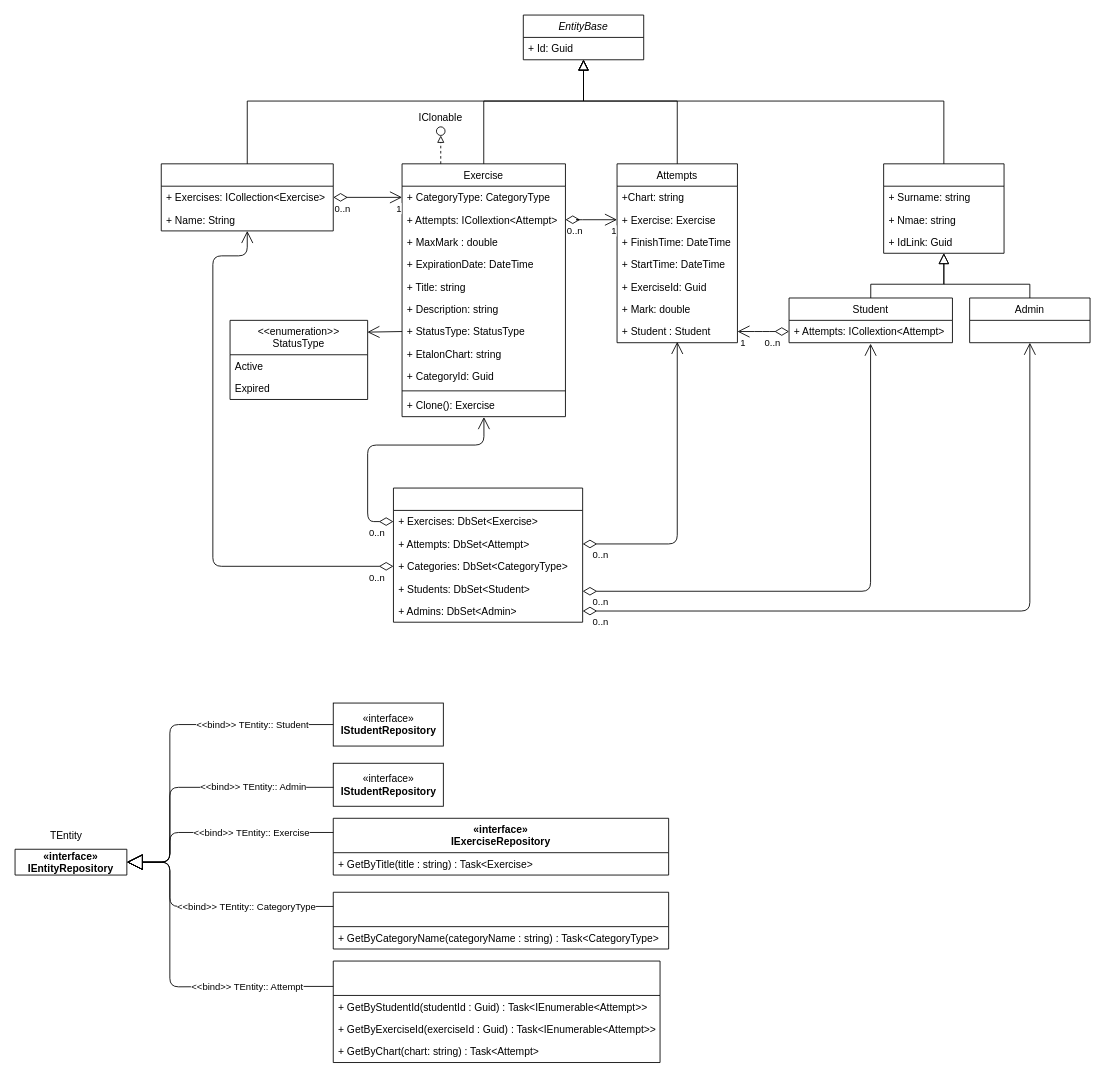
Some shapes in this 1105 by 1080 pixel diagram are drawn without their labels. Each missing label, with the box of its shape:
CategoryTyoe: (160, 163, 333, 231)
DomainDbContext: (393, 487, 583, 622)
User: (883, 163, 1004, 253)
«interface» IAttemptRepository: (332, 960, 660, 1063)
«interface» ICategoryRepository: (332, 891, 669, 949)
